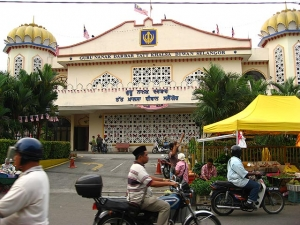Gurdwara: (1, 9, 298, 129)
